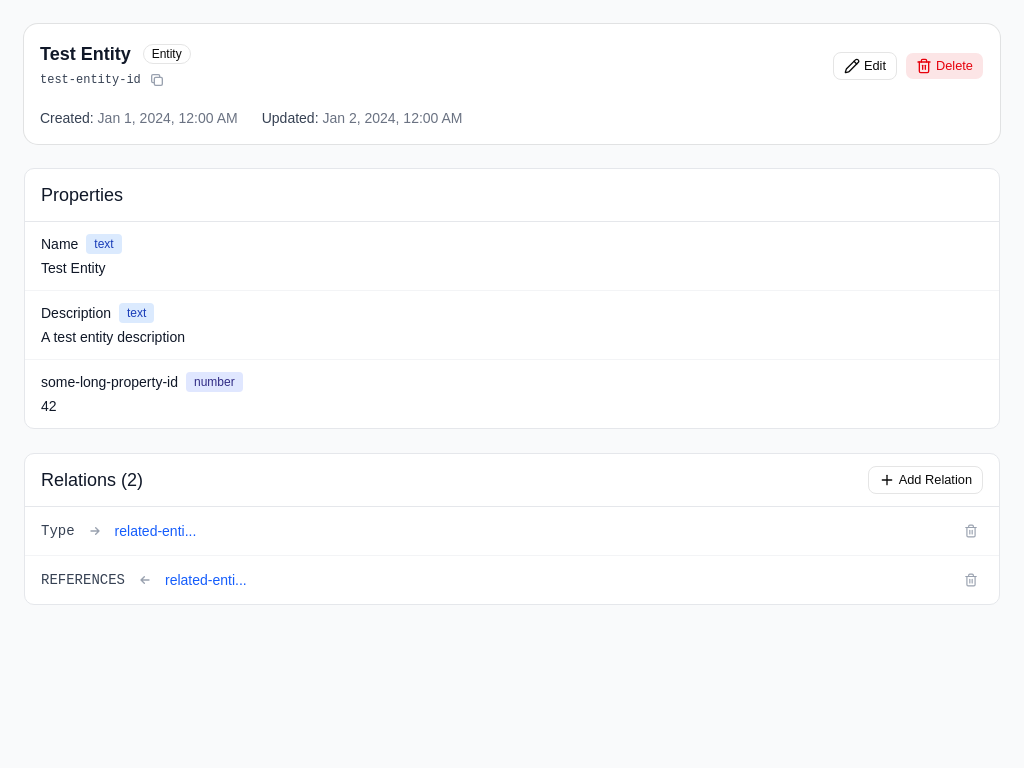
EntityPage › delete entity › canceling dialog dismisses it without firing mutation
Click the button with test id "delete-entity-button" at (944, 66), box 905,52 -> 984,80
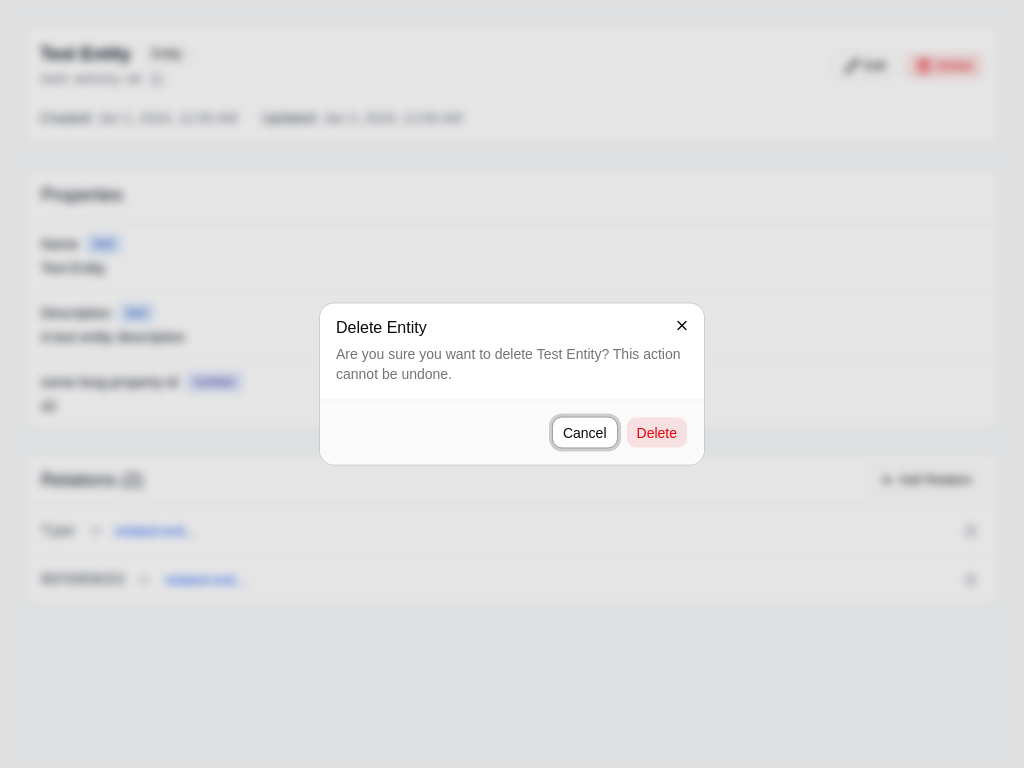
Click the button "Cancel" at (585, 432), box 552,416 -> 618,448
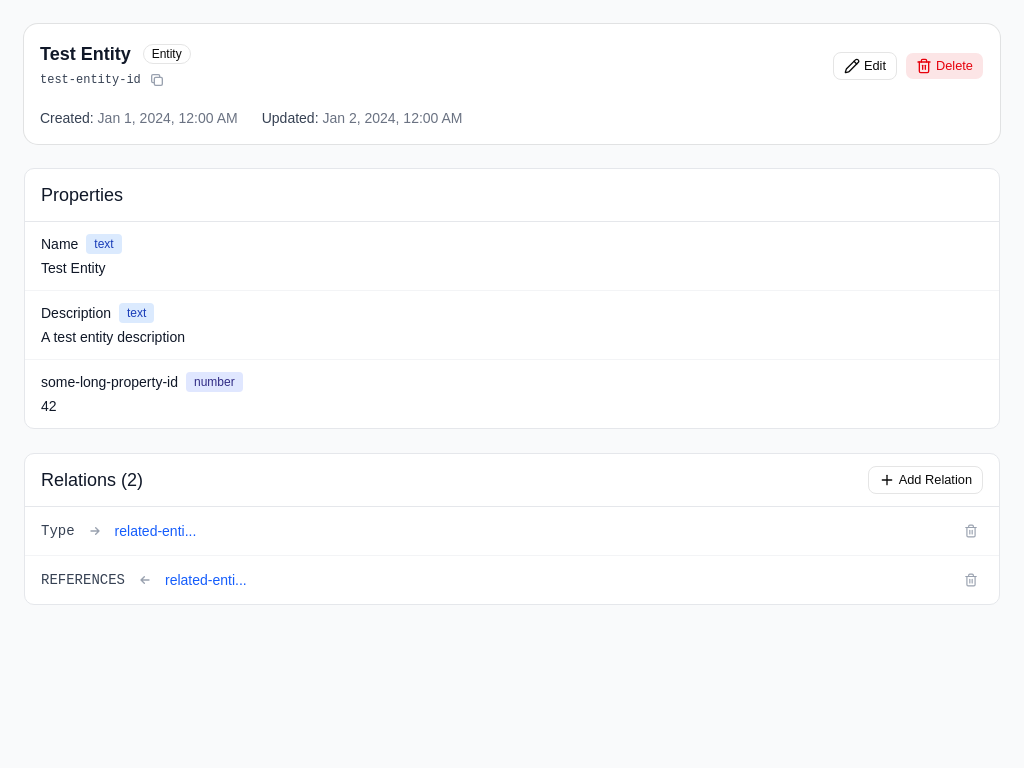
expect the dialog is gone: met
